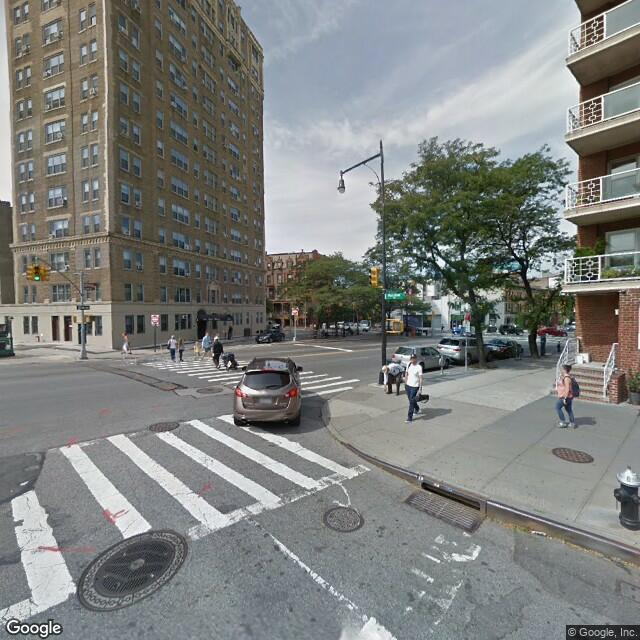litter: (533, 529, 547, 535)
